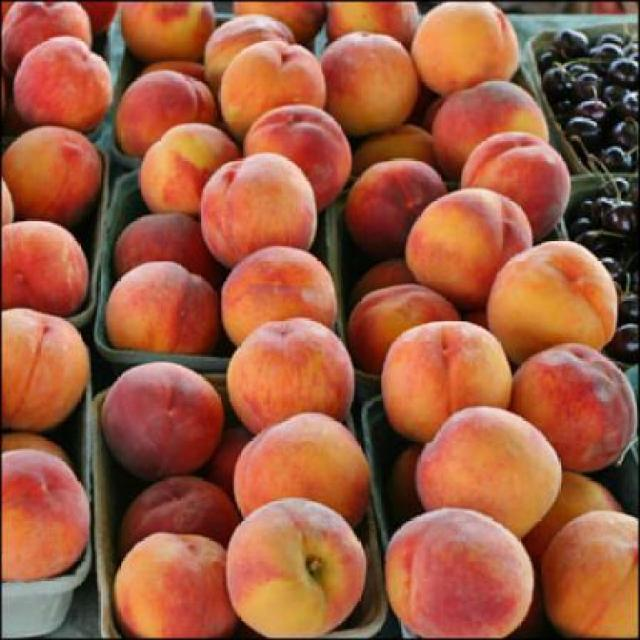Peach: (0, 0, 638, 638), (0, 0, 638, 638), (93, 358, 222, 476)
